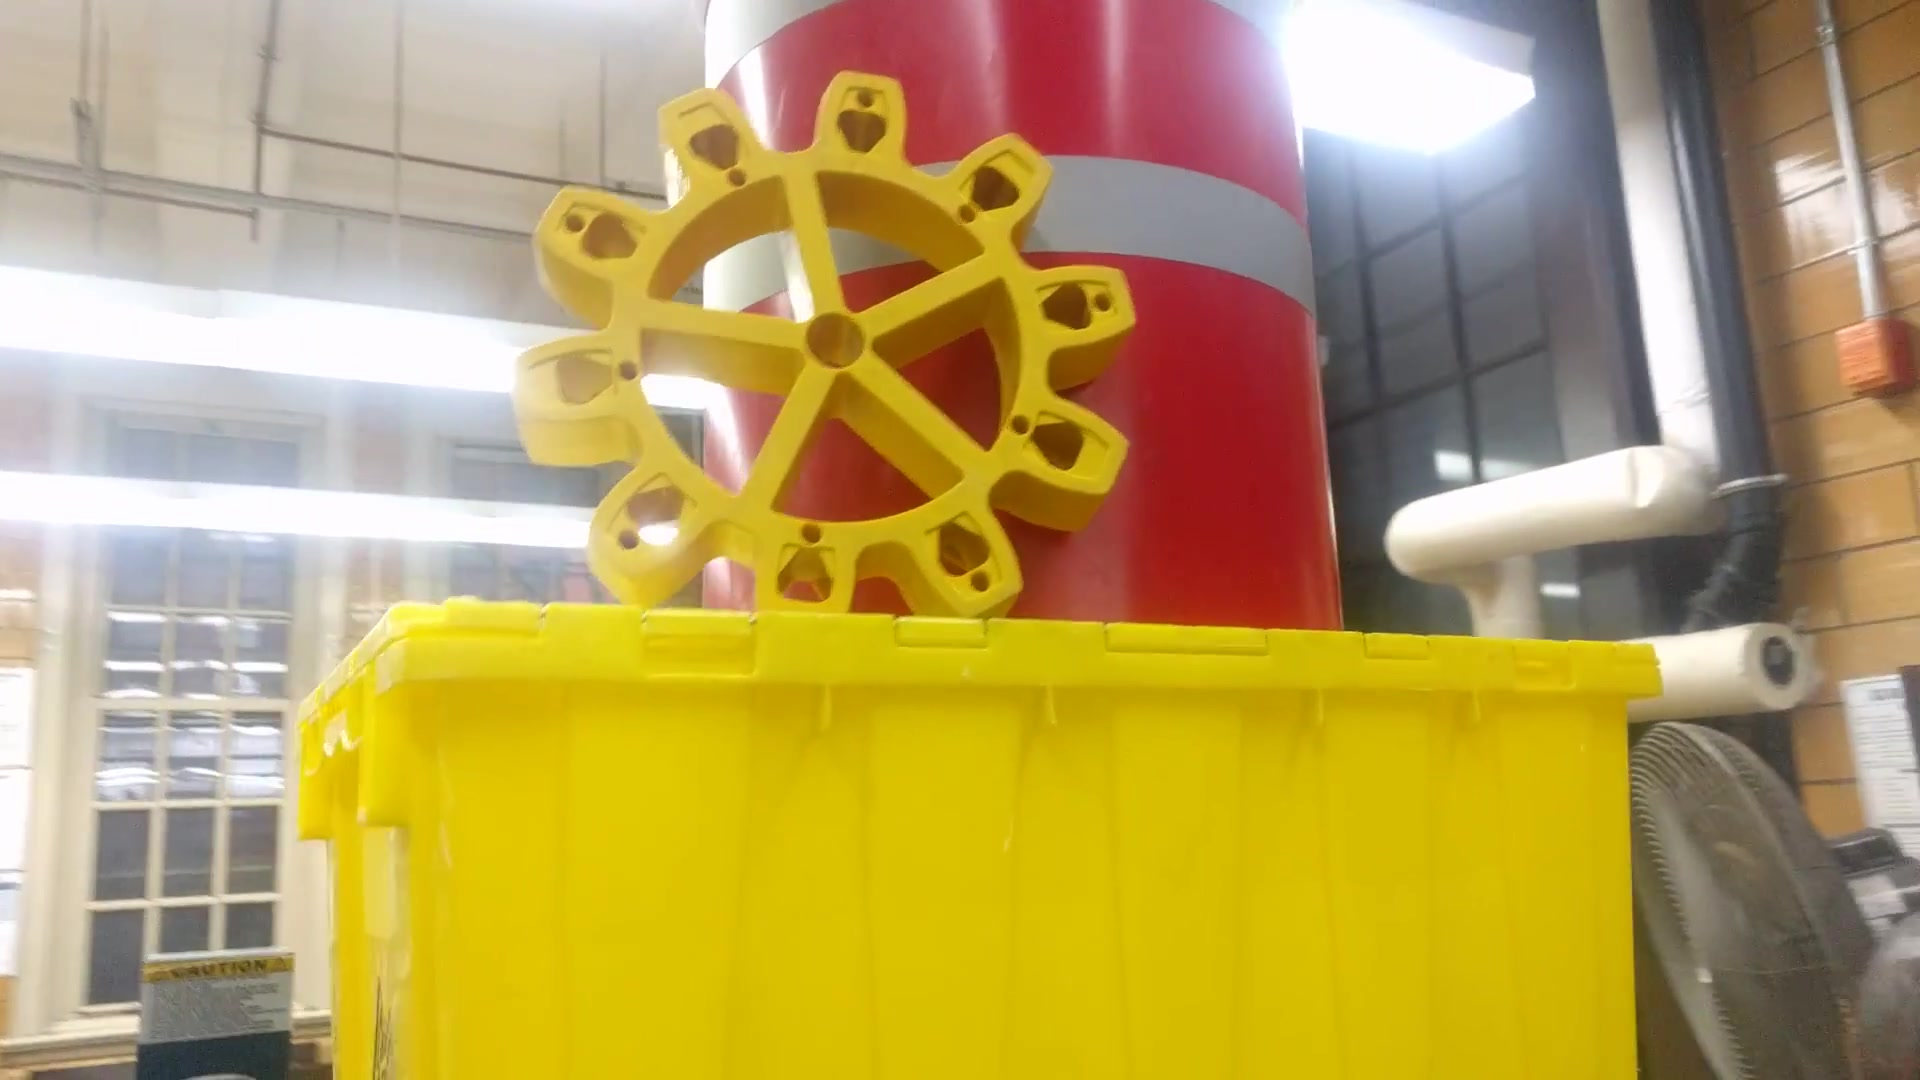gear: (512, 51, 1139, 621)
